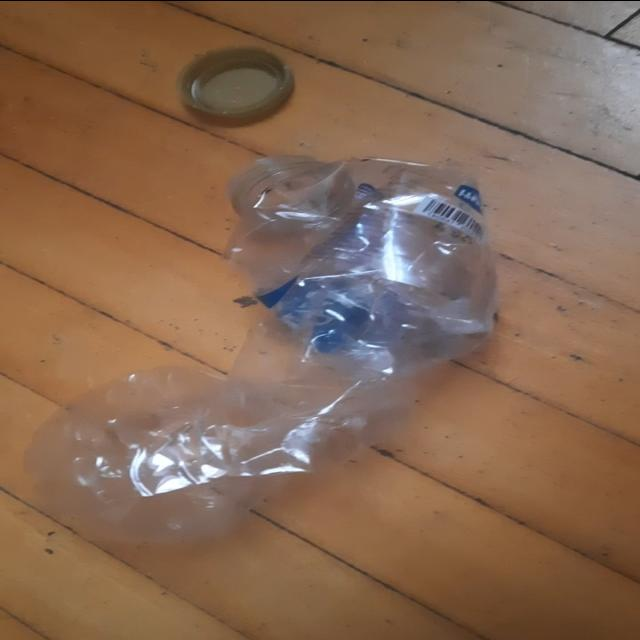Plastic: (23, 155, 497, 542)
